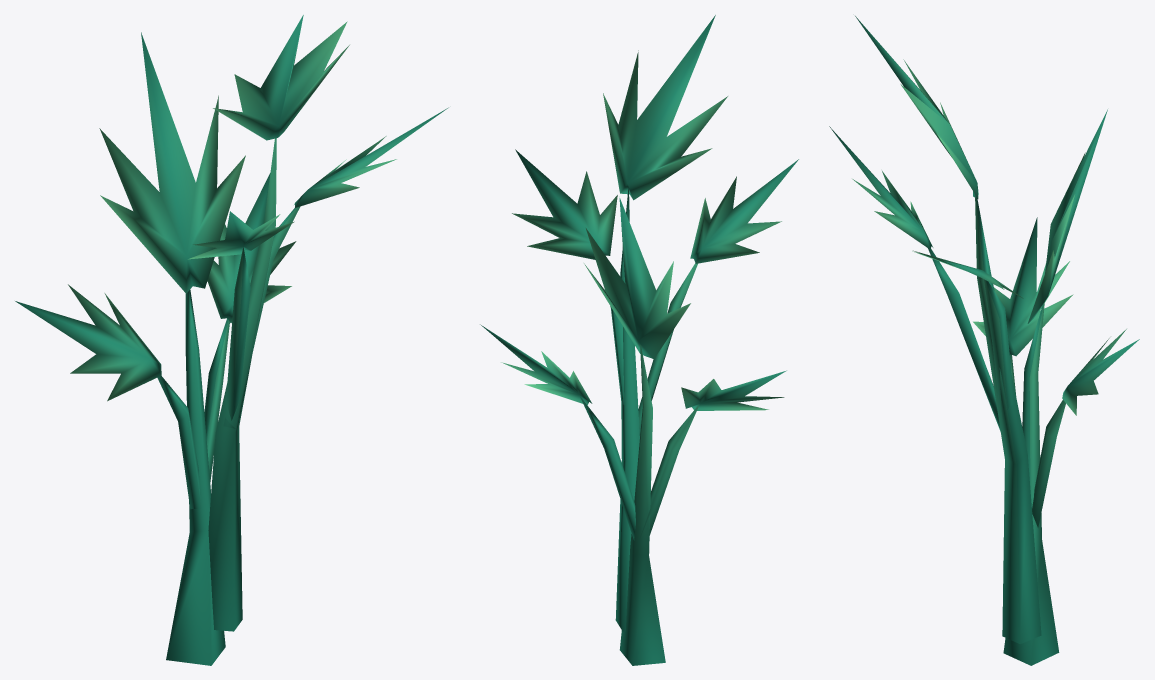
The model's file is CarrotSprout02.glb.
3 views of the same model, side by side, from view 1: azimuth 30°, elevation 25°; view 2: azimuth 150°, elevation 25°; view 3: azimuth 270°, elevation 25° (orthographic). The views are drawn at different scales.
Visible parts, largest first — view 1: CarrotSprout02; view 2: CarrotSprout02; view 3: CarrotSprout02.
Boxes of the visible parts, left/top/right/bottom form: CarrotSprout02: left=15, top=15, right=448, bottom=665; CarrotSprout02: left=480, top=15, right=798, bottom=665; CarrotSprout02: left=829, top=16, right=1139, bottom=665.
Bounding box in the file's own units: 0.3436 × 0.6058 × 0.2664.
1 material, 1 textured.
